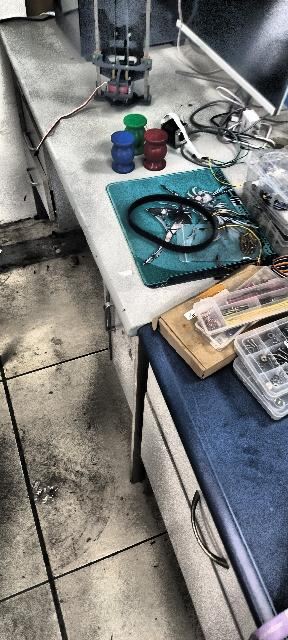blue: (110, 130, 136, 173)
green: (147, 130, 169, 177), (129, 114, 147, 132)
